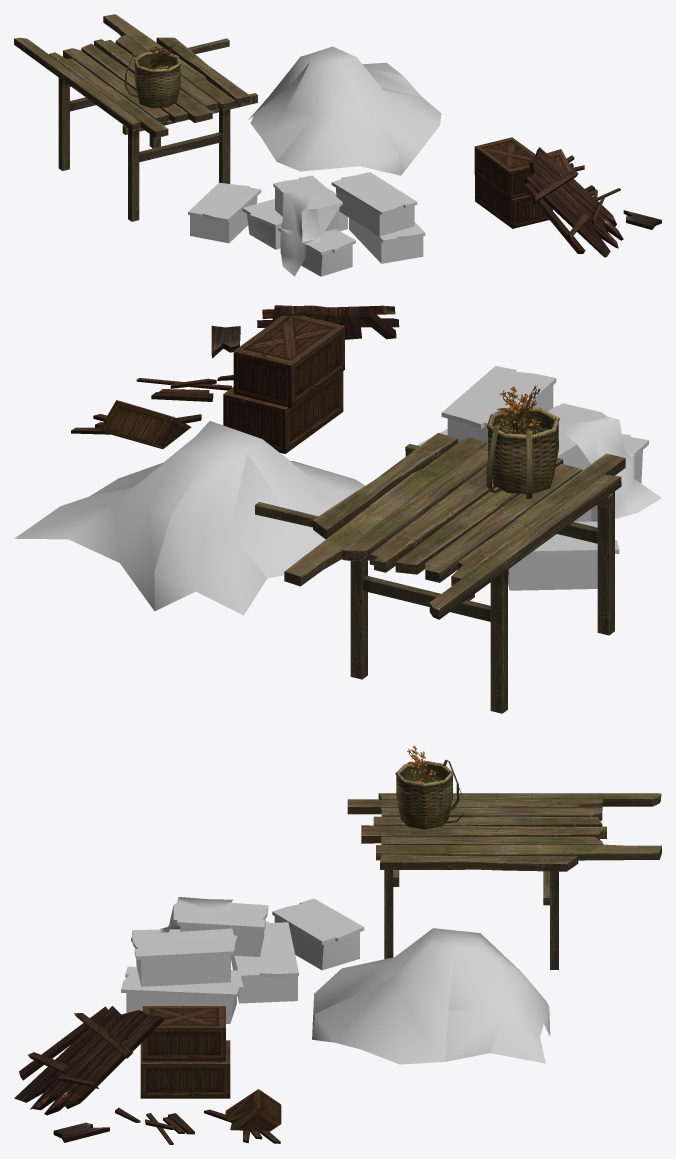
Rendered from 2_KJ_JianLouMuXiang_01.FBX.
3 renders of one model, top to bottom at view 1: azimuth 30°, elevation 25°; view 2: azimuth 150°, elevation 25°; view 3: azimuth 270°, elevation 25°, orthographic. The views are drawn at different scales.
Parts seen in each view (by area): view 1: 2_KJ_DaiHuaMuTai_01, 2_KJ_GaiMuXiangBu_01, 2_KJ_JianLouMuXiang_01, 2_KJ_DaMuXiangZi_01; view 2: 2_KJ_DaiHuaMuTai_01, 2_KJ_GaiMuXiangBu_01, 2_KJ_DaMuXiangZi_01, 2_KJ_JianLouMuXiang_01; view 3: 2_KJ_DaiHuaMuTai_01, 2_KJ_GaiMuXiangBu_01, 2_KJ_JianLouMuXiang_01, 2_KJ_DaMuXiangZi_01.
Part boxes in pixels (bbox=[...]): 2_KJ_DaiHuaMuTai_01: bbox=[14, 14, 257, 221]; 2_KJ_GaiMuXiangBu_01: bbox=[248, 46, 441, 175]; 2_KJ_JianLouMuXiang_01: bbox=[188, 172, 425, 276]; 2_KJ_DaMuXiangZi_01: bbox=[474, 137, 661, 257]; 2_KJ_DaiHuaMuTai_01: bbox=[255, 385, 625, 713]; 2_KJ_GaiMuXiangBu_01: bbox=[14, 421, 365, 615]; 2_KJ_DaMuXiangZi_01: bbox=[71, 305, 399, 453]; 2_KJ_JianLouMuXiang_01: bbox=[416, 366, 661, 590]; 2_KJ_DaiHuaMuTai_01: bbox=[347, 745, 661, 969]; 2_KJ_GaiMuXiangBu_01: bbox=[312, 928, 550, 1064]; 2_KJ_JianLouMuXiang_01: bbox=[121, 897, 364, 1023]; 2_KJ_DaMuXiangZi_01: bbox=[14, 1006, 281, 1144].
Size of the model in its own units: 853 by 322 by 999.
